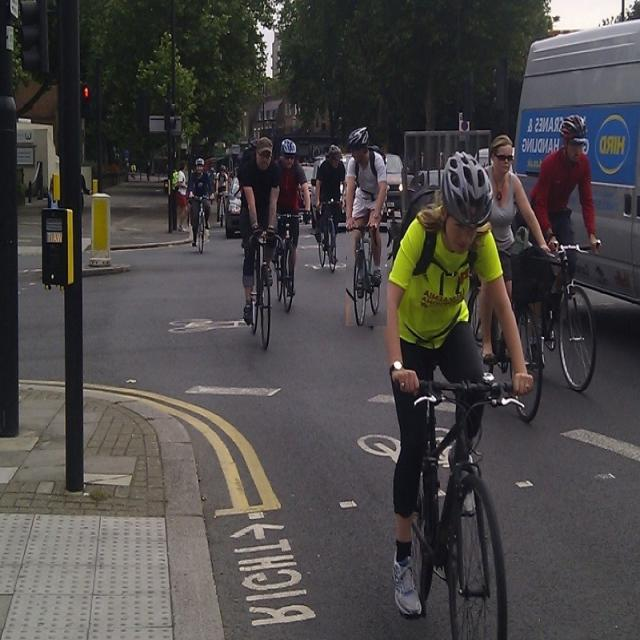bicycle: (382, 152, 534, 637), (530, 115, 600, 391), (240, 136, 280, 347), (346, 127, 386, 326), (316, 145, 345, 271), (188, 157, 214, 252)
